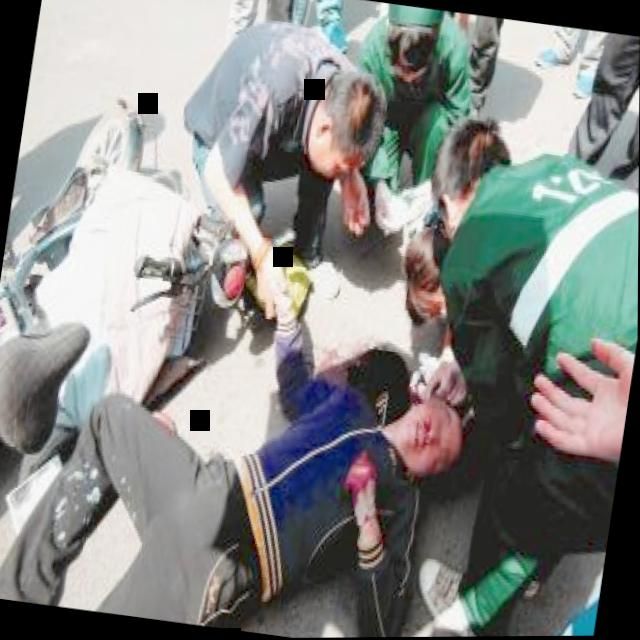Fall-Detected: (0, 246, 491, 640)
